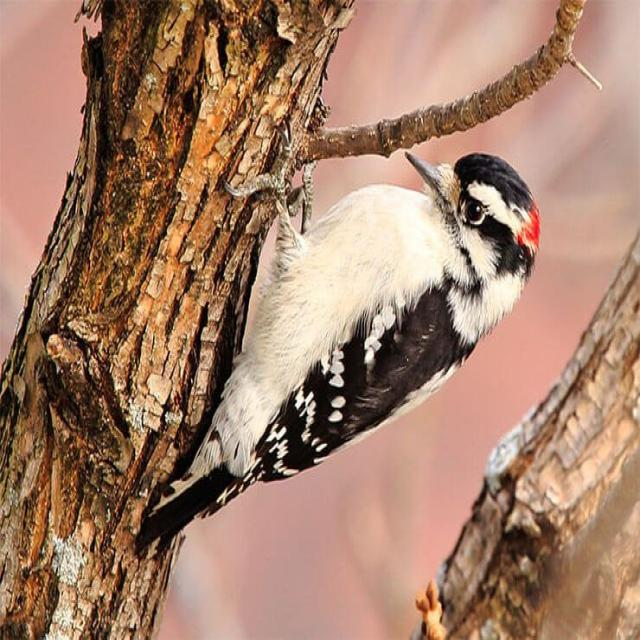Woodpecker: (143, 130, 544, 544)
